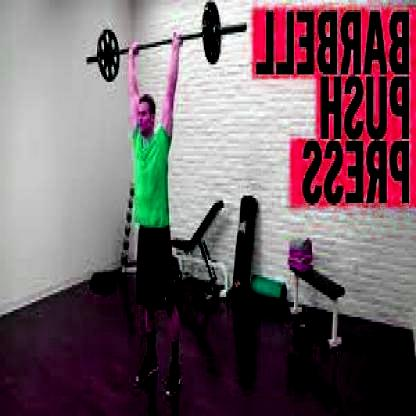Barbell: (238, 16, 247, 39)
